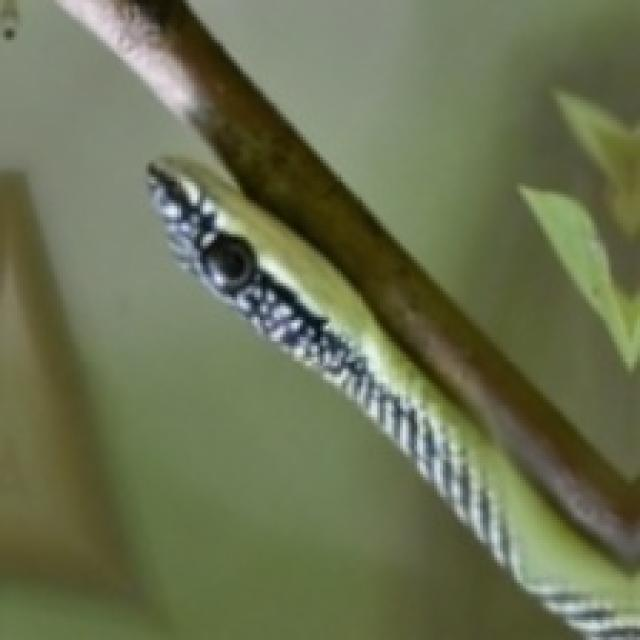paradise tree snake: (149, 157, 637, 637)
